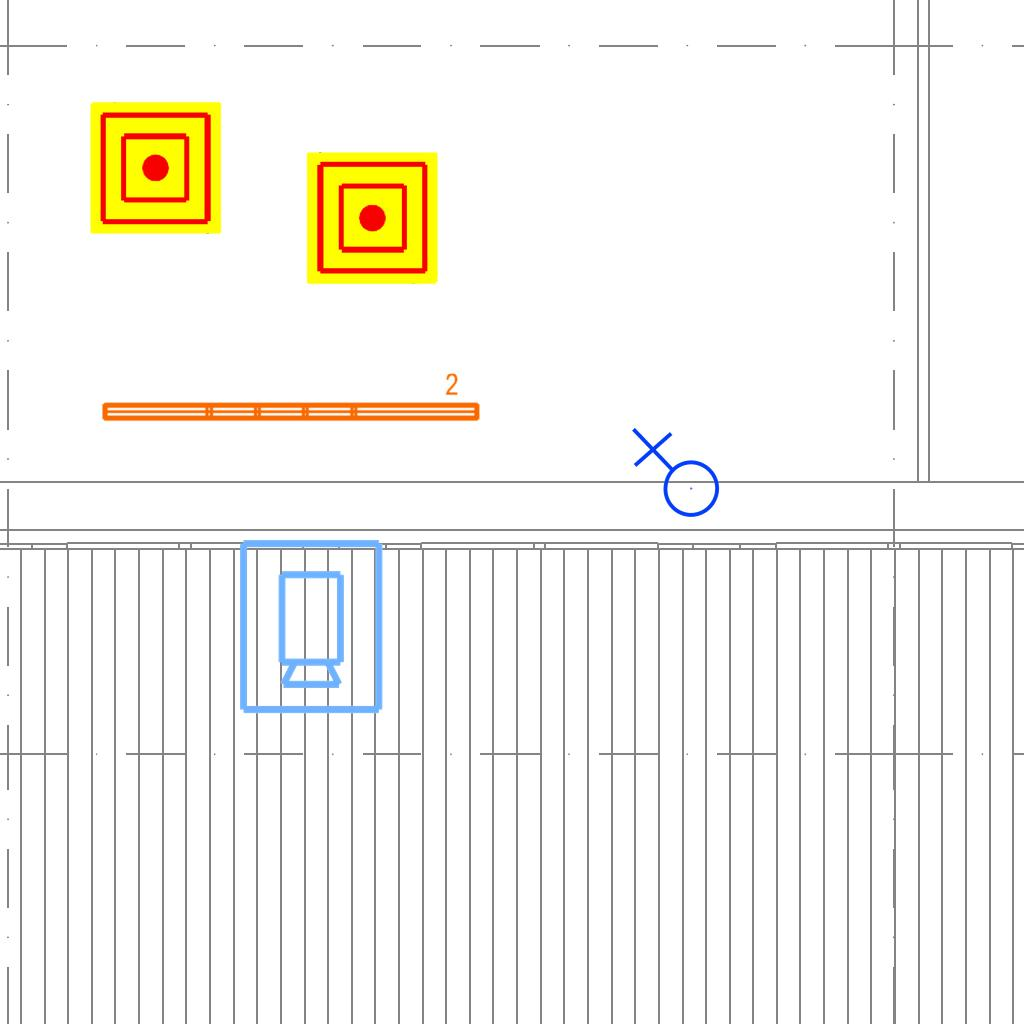Ambulanz_Pendelleuchte_LED: (97, 371, 484, 427)
Elektroanschluss_allgemein_230V_Geraeteanschlussdose_230V: (627, 427, 721, 526)
KFO_Kamera_mit_Festobjektiv: (233, 535, 387, 717)
NAM-Nichtautomatischer_Melder: (306, 152, 438, 284), (90, 102, 222, 234)
